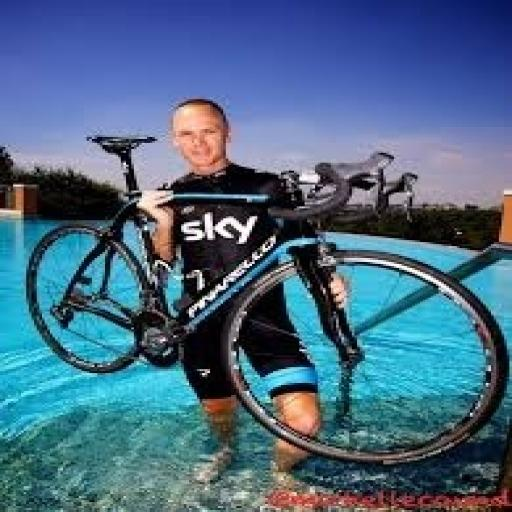cycling: (131, 95, 360, 496)
